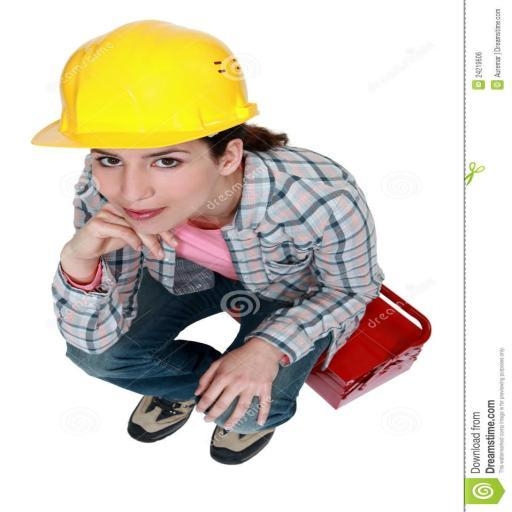safety_boots: (192, 426, 278, 470), (121, 394, 177, 449)
